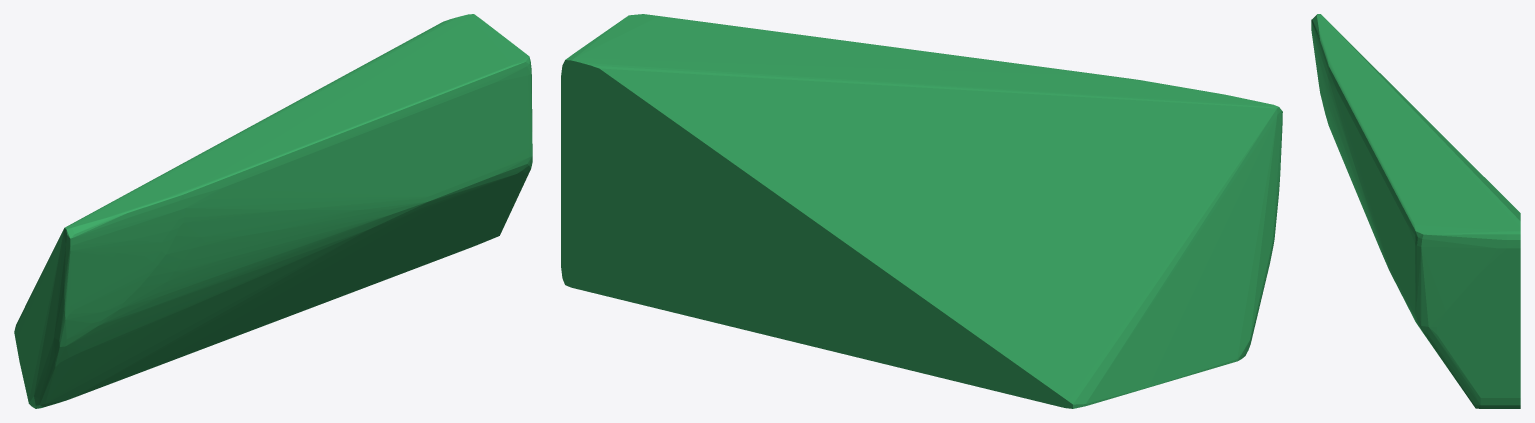
Rendered from right-elbow-0_part_10.obj.
3 views of the same model, side by side, from view 1: azimuth 30°, elevation 25°; view 2: azimuth 150°, elevation 25°; view 3: azimuth 270°, elevation 25° (orthographic). The views are drawn at different scales.
Size of the model in its own units: 0.0555 by 0.0204 by 0.022.
